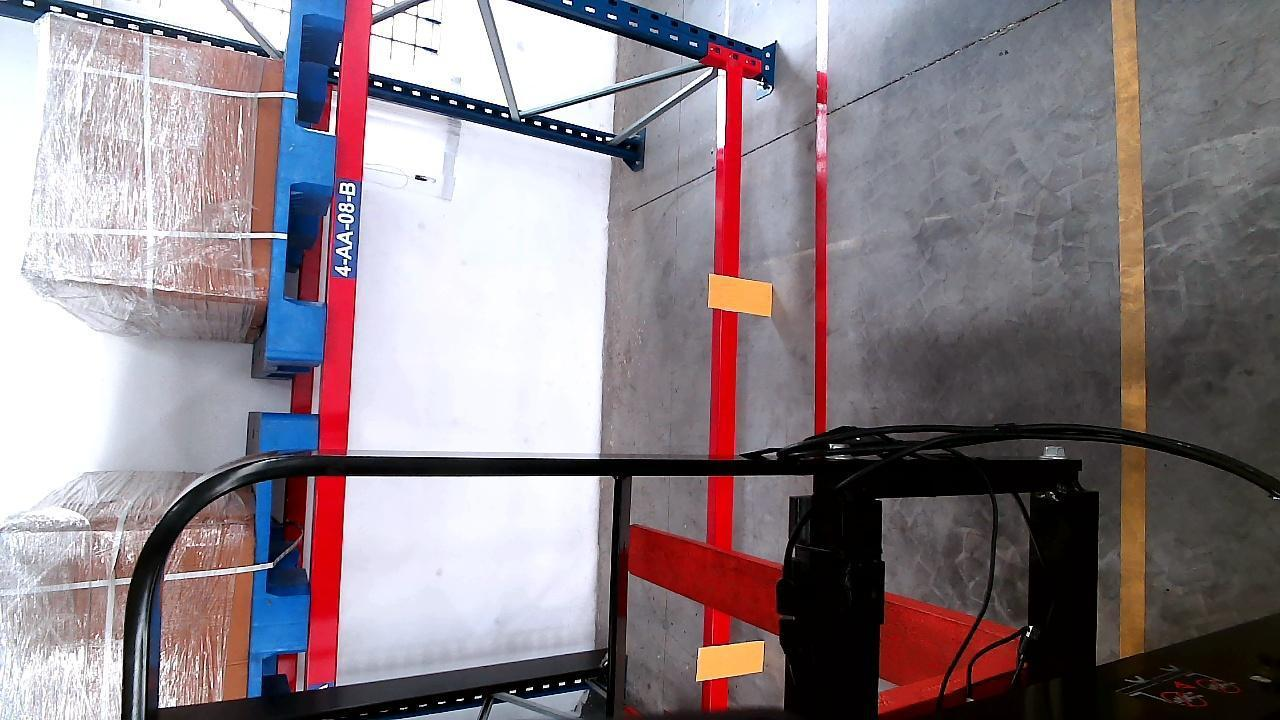h_rack: (308, 0, 371, 685), (703, 77, 750, 713)
orange_strip: (697, 639, 767, 680), (711, 275, 773, 314)
red_line: (809, 6, 834, 437)
small_pallet: (266, 0, 344, 363), (248, 408, 317, 688)
